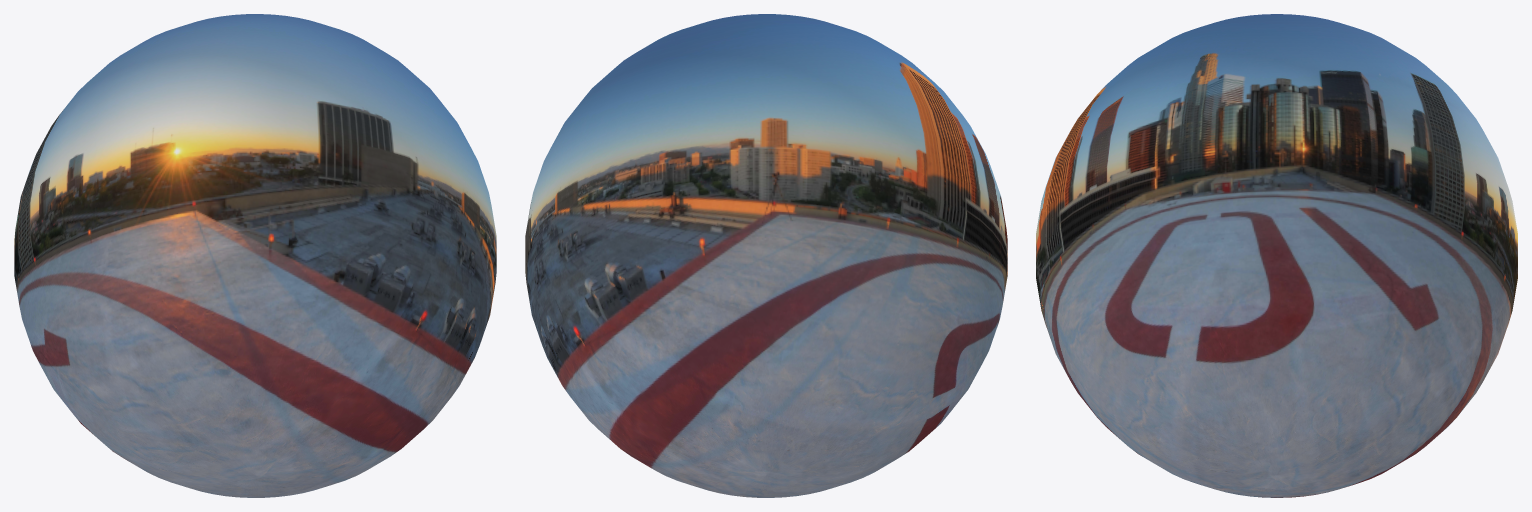
The picture shows the model from 3 angles, left to right: view 1: azimuth 30°, elevation 25°; view 2: azimuth 150°, elevation 25°; view 3: azimuth 270°, elevation 25°; orthographic projection.
Visible parts, largest first — view 1: PanoSphere; view 2: PanoSphere; view 3: PanoSphere.
Boxes of the visible parts, x1,y1,x2,y2 form: PanoSphere: (14,14,496,497); PanoSphere: (525,14,1007,497); PanoSphere: (1036,14,1517,497).
Size of the model in its own units: 9.97 by 10 by 9.95.
Materials: 1 (1 with a texture image).
